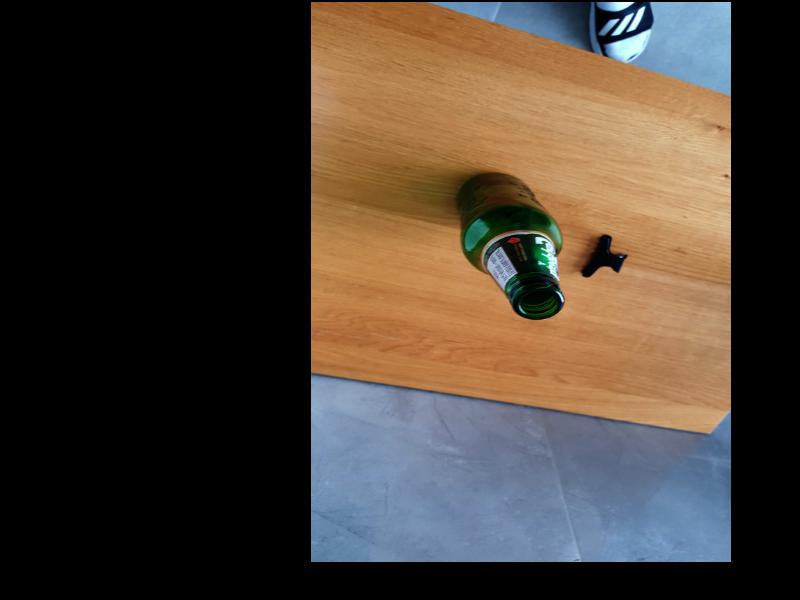Beer: (456, 171, 564, 319)
